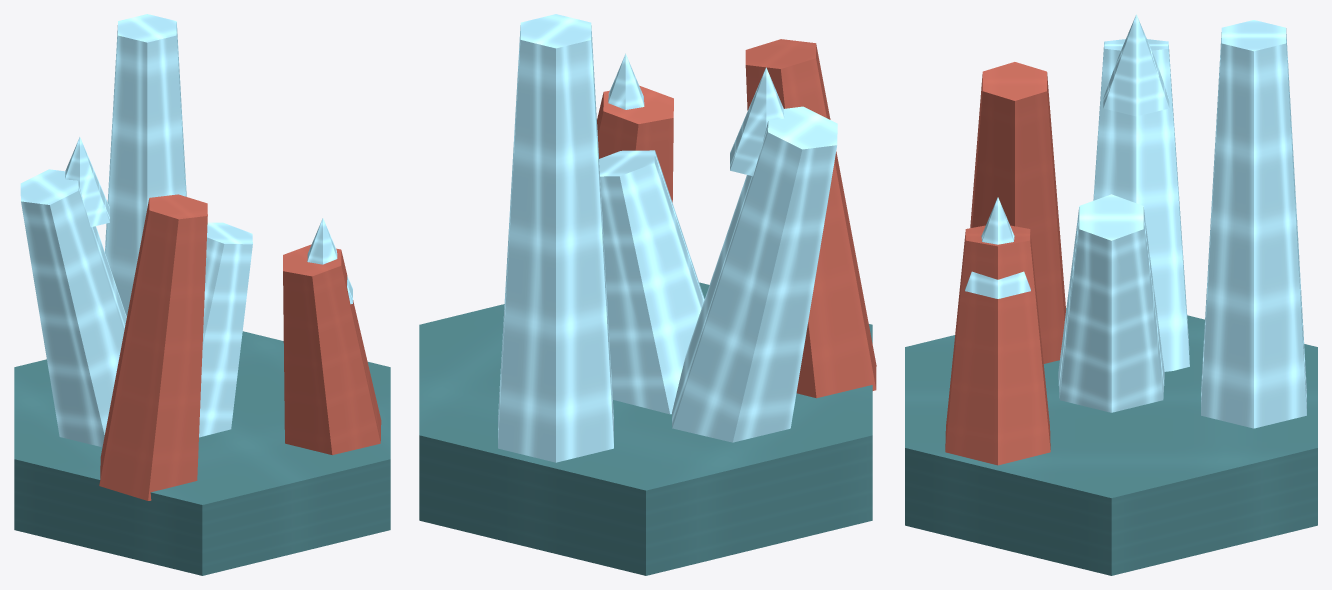
File: atlas100-s071-a04.lod2.glb
3 renders of one model, left to right at view 1: azimuth 30°, elevation 25°; view 2: azimuth 150°, elevation 25°; view 3: azimuth 270°, elevation 25°, orthographic. The views are drawn at different scales.
Parts seen in each view (by area): view 1: atlas100-s071-a04:part-000, atlas100-s071-a04:part-003, atlas100-s071-a04:part-009, atlas100-s071-a04:part-007, atlas100-s071-a04:part-005, atlas100-s071-a04:part-001, atlas100-s071-a04:part-010, atlas100-s071-a04:part-008; view 2: atlas100-s071-a04:part-000, atlas100-s071-a04:part-005, atlas100-s071-a04:part-009, atlas100-s071-a04:part-001, atlas100-s071-a04:part-003, atlas100-s071-a04:part-007, atlas100-s071-a04:part-010, atlas100-s071-a04:part-008; view 3: atlas100-s071-a04:part-000, atlas100-s071-a04:part-005, atlas100-s071-a04:part-007, atlas100-s071-a04:part-001, atlas100-s071-a04:part-003, atlas100-s071-a04:part-009, atlas100-s071-a04:part-010, atlas100-s071-a04:part-008.
Part boxes in pixels (x1,y1,x2,y2): atlas100-s071-a04:part-000: (14, 331, 390, 575); atlas100-s071-a04:part-003: (99, 194, 207, 500); atlas100-s071-a04:part-009: (20, 169, 126, 447); atlas100-s071-a04:part-007: (283, 244, 381, 455); atlas100-s071-a04:part-005: (105, 14, 186, 316); atlas100-s071-a04:part-001: (199, 222, 252, 437); atlas100-s071-a04:part-010: (65, 137, 109, 227); atlas100-s071-a04:part-008: (307, 218, 352, 304); atlas100-s071-a04:part-000: (419, 282, 872, 575); atlas100-s071-a04:part-005: (498, 14, 613, 462); atlas100-s071-a04:part-009: (672, 106, 837, 442); atlas100-s071-a04:part-001: (599, 150, 704, 414); atlas100-s071-a04:part-003: (745, 39, 876, 398); atlas100-s071-a04:part-007: (597, 85, 673, 202); atlas100-s071-a04:part-010: (730, 67, 784, 176); atlas100-s071-a04:part-008: (608, 53, 644, 109); atlas100-s071-a04:part-000: (905, 308, 1317, 575); atlas100-s071-a04:part-005: (1201, 20, 1306, 428); atlas100-s071-a04:part-007: (945, 225, 1050, 465); atlas100-s071-a04:part-001: (1058, 194, 1164, 412); atlas100-s071-a04:part-003: (970, 62, 1065, 363); atlas100-s071-a04:part-009: (1093, 39, 1189, 371); atlas100-s071-a04:part-010: (1103, 14, 1169, 116); atlas100-s071-a04:part-008: (965, 197, 1030, 298).
Size of the model in its own units: 1.07 by 1.1 by 0.9258.
3 materials, 3 textured.
